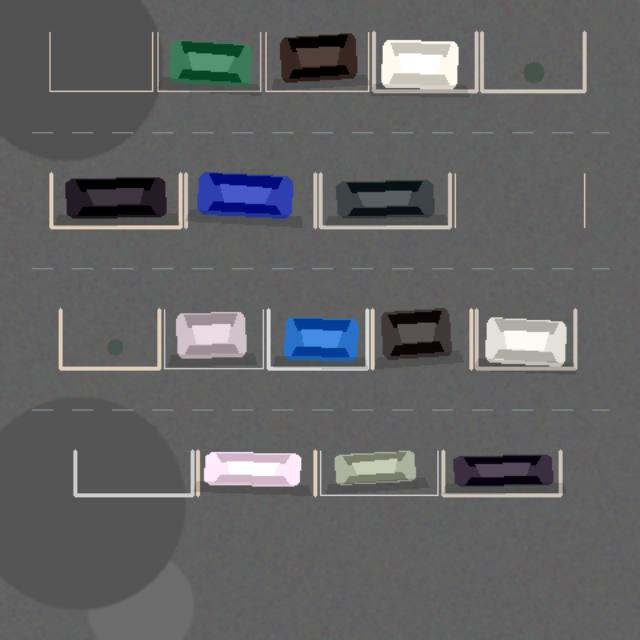space-empty: (455, 173, 584, 227), (49, 32, 152, 91), (481, 32, 584, 91), (60, 309, 159, 368), (75, 451, 192, 495)
space-occupied: (185, 173, 315, 227), (51, 173, 180, 227), (320, 173, 449, 227), (157, 32, 260, 91), (265, 32, 368, 91), (373, 32, 476, 91), (164, 309, 263, 368), (268, 309, 367, 368), (372, 309, 471, 368), (476, 309, 575, 368), (197, 451, 315, 495), (320, 451, 437, 495), (443, 451, 560, 495)
